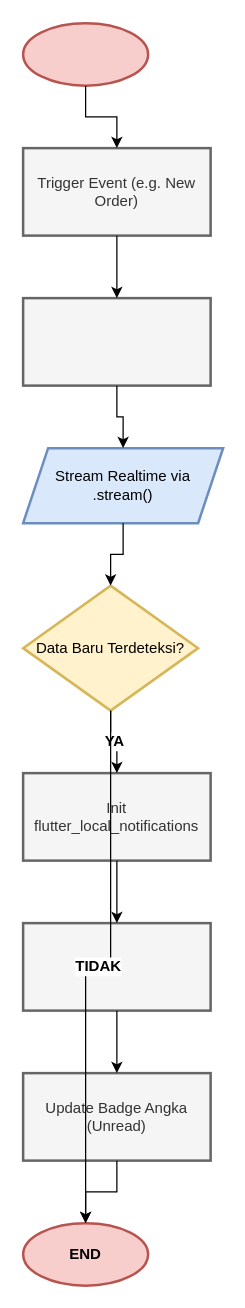
Image size: 245x1308. Some labels were removed from this diagram. The shapes that lost their labels are listed below. From the top down, each one's centre as x and y in pixels, then its label:
At point (85, 53): "START".
At point (116, 341): "Insert Row ke notifications".
At point (116, 966): "Tampil Push Notification".
